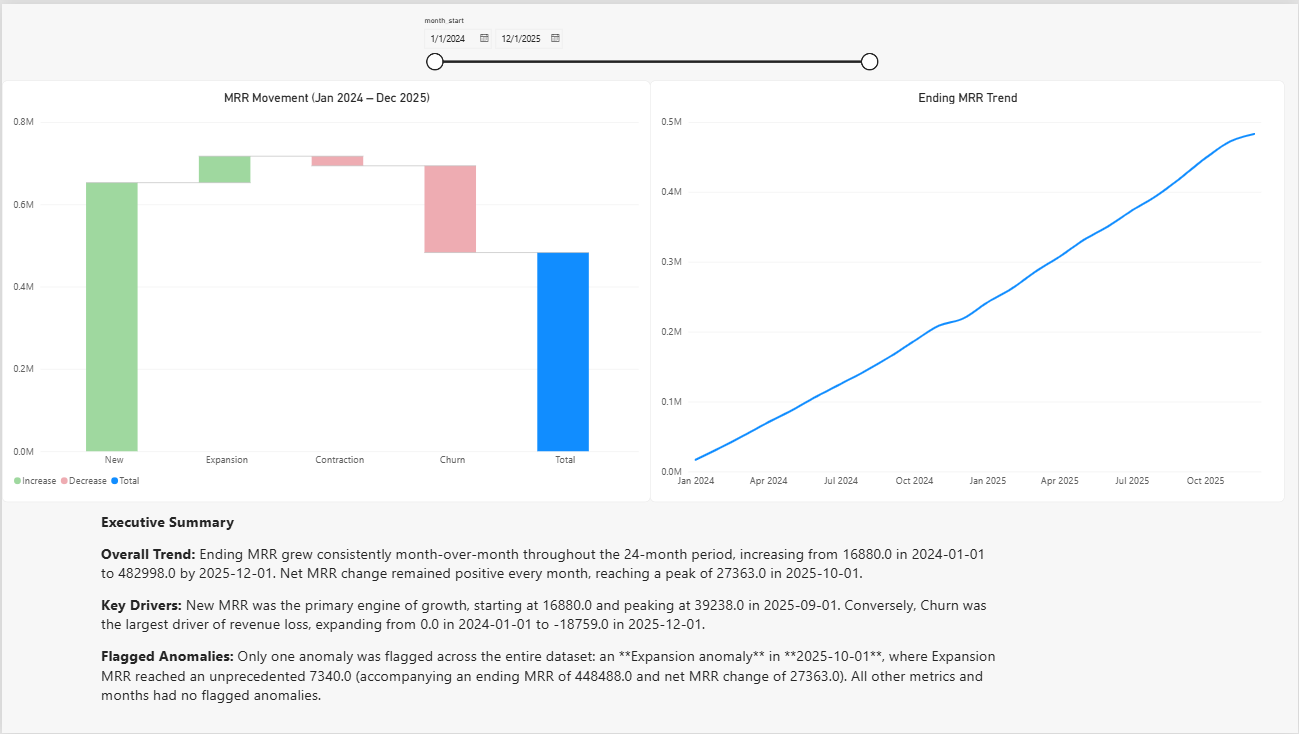

The page's visual inventory and layout, read from the dashboard file:
{"tool":"powerbi","page":{"name":"Page 1","canvas":[1920,1080],"ordinal":0},"visuals":[{"type":"waterfallChart","title":"MRR Movement (Jan 2024 – Dec 2025)","fields":{"Category":["saas_churn_analytics vw_mrr_waterfall_summary.movement_type"],"Y":["Sum(saas_churn_analytics vw_mrr_waterfall_summary.total_mrr_delta)"]},"box":[0,113.6,960.8,624.6],"z":0},{"type":"slicer","fields":{"Values":["saas_churn_analytics vw_mrr_waterfall_summary.month_start"]},"box":[617.8,18.2,683.7,95.4],"z":1000},{"type":"textbox","box":[147.6,751.8,1335.5,327.1],"z":2000},{"type":"lineChart","title":"Ending MRR Trend","fields":{"Category":["saas_churn_analytics vw_mrr_waterfall_summary.month_start.Variation.Date Hierarchy.Year","saas_churn_analytics vw_mrr_waterfall_summary.month_start.Variation.Date Hierarchy.Quarter","saas_churn_analytics vw_mrr_waterfall_summary.month_start.Variation.Date Hierarchy.Month","saas_churn_analytics vw_mrr_waterfall_summary.month_start.Variation.Date Hierarchy.Day"],"Y":["saas_churn_analytics vw_mrr_waterfall_summary.Ending MRR"]},"box":[960.8,113.6,940.3,624.6],"z":2001}]}

Visuals, with their boxes in screenshot pixels (x1, y1, x2, y2), scaled from the page's 1920x1080 canvas onto the 1299x734 screenshot:
"MRR Movement (Jan 2024 – Dec 2025)" waterfallChart: [left=0, top=77, right=650, bottom=502]
slicer - saas_churn_analytics vw_mrr_waterfall_summary.month_start: [left=418, top=12, right=881, bottom=77]
textbox: [left=100, top=511, right=1003, bottom=733]
"Ending MRR Trend" lineChart: [left=650, top=77, right=1286, bottom=502]
